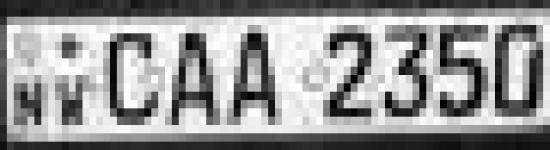0: (488, 8, 550, 117)
2: (310, 24, 384, 132)
3: (378, 20, 438, 130)
5: (431, 23, 496, 126)
A: (225, 23, 283, 126), (166, 30, 224, 128)
C: (102, 26, 166, 132)
N: (8, 72, 48, 134)
W: (56, 68, 96, 132)
